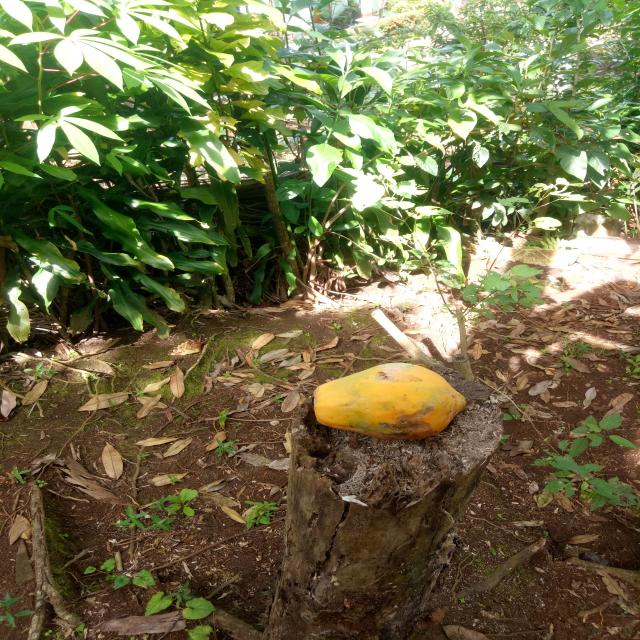Pepaya rippen: (304, 366, 471, 440)
